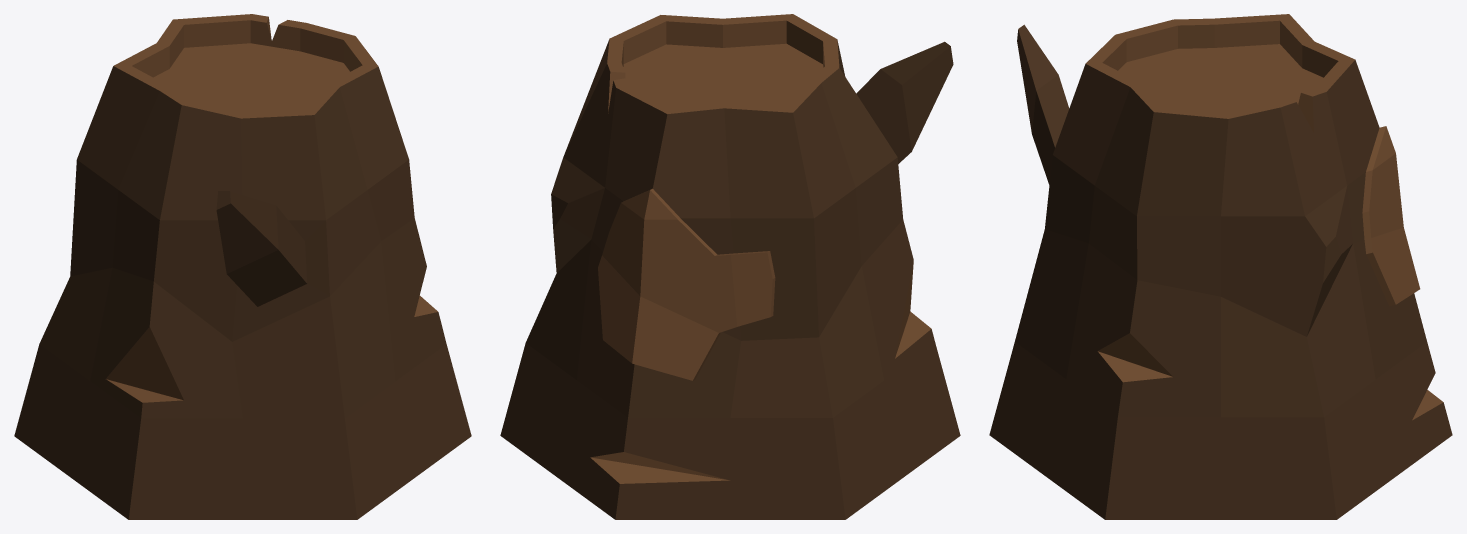
File: Tree_Trunk_5_Dark_Brown.fbx
3 renders of one model, left to right at view 1: azimuth 30°, elevation 25°; view 2: azimuth 150°, elevation 25°; view 3: azimuth 270°, elevation 25°, orthographic.
Parts seen in each view (by area): view 1: Tree_Trunk_5_Dark_Brown_Part_1, Tree_Trunk_5_Dark_Brown_Part_2; view 2: Tree_Trunk_5_Dark_Brown_Part_1, Tree_Trunk_5_Dark_Brown_Part_2; view 3: Tree_Trunk_5_Dark_Brown_Part_1, Tree_Trunk_5_Dark_Brown_Part_2.
Boxes of the visible parts, left/top/right/bottom form: Tree_Trunk_5_Dark_Brown_Part_1: left=14, top=66, right=471, bottom=519; Tree_Trunk_5_Dark_Brown_Part_2: left=106, top=14, right=437, bottom=402; Tree_Trunk_5_Dark_Brown_Part_1: left=500, top=39, right=960, bottom=519; Tree_Trunk_5_Dark_Brown_Part_2: left=590, top=14, right=931, bottom=483; Tree_Trunk_5_Dark_Brown_Part_1: left=989, top=24, right=1452, bottom=519; Tree_Trunk_5_Dark_Brown_Part_2: left=1085, top=14, right=1443, bottom=420.
Size of the model in its own units: 117 by 120 by 135.
